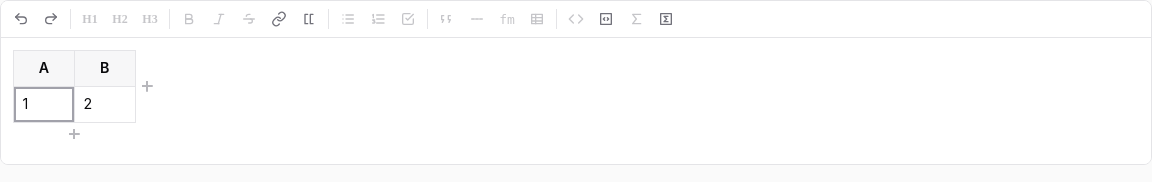
Test: the selection bar follows a text selection inside a table cell
Focus the cell "1". click: (44, 104)
box: [14,86,74,122]
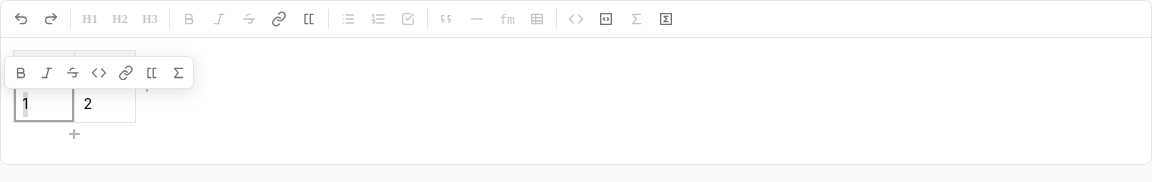
Click the 1st button with class "cm-inplace-selbar-btn". click: (20, 72)
box: [8,60,33,85]
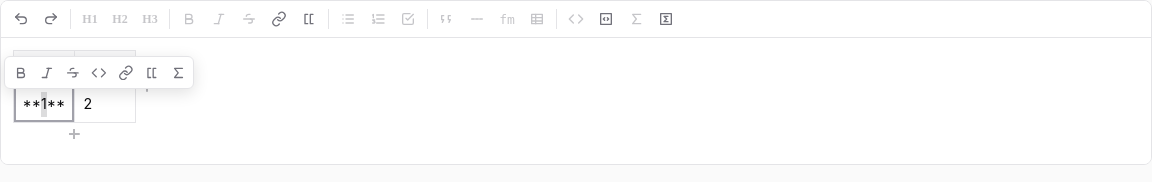
Result: the cell "**1**" is shown at [14,86,74,122]
